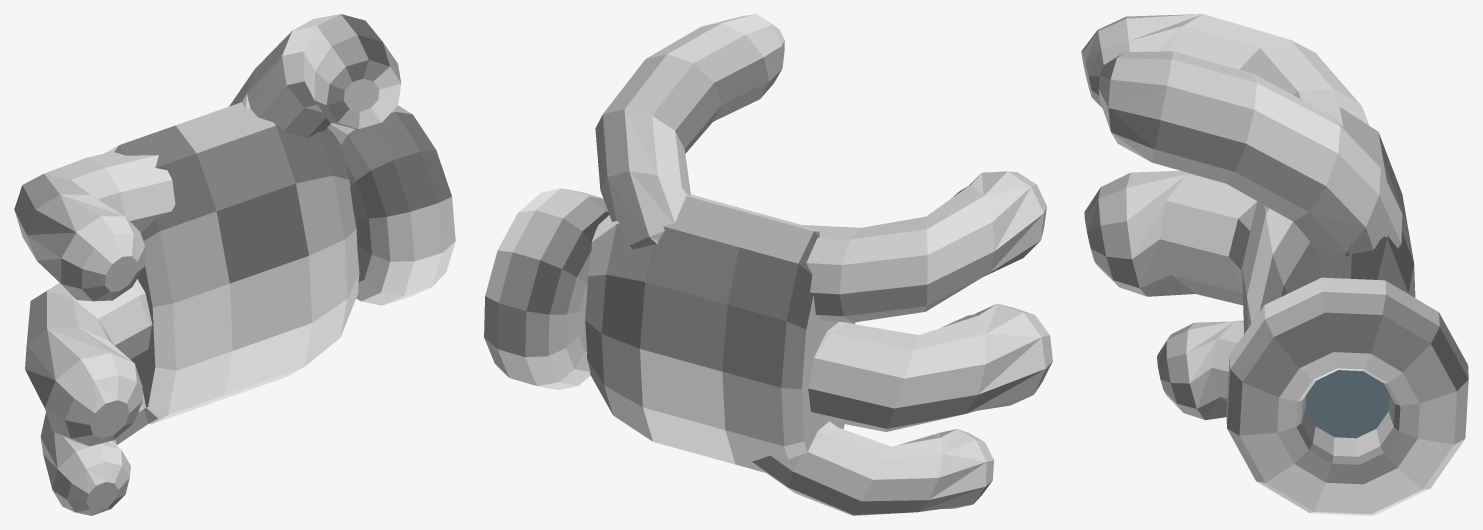
Rendered from RHand Hold.FBX.
3 views of the same model, side by side, from view 1: azimuth 30°, elevation 25°; view 2: azimuth 150°, elevation 25°; view 3: azimuth 270°, elevation 25° (orthographic). The views are drawn at different scales.
Visible parts, largest first — view 1: mesh728819759; view 2: mesh728819759; view 3: mesh728819759.
Boxes of the visible parts, bbox=[...] form: mesh728819759: bbox=[14, 14, 455, 515]; mesh728819759: bbox=[484, 14, 1052, 515]; mesh728819759: bbox=[1081, 14, 1468, 515].
Size of the model in its own units: 0.3247 by 0.2869 by 0.2012.
